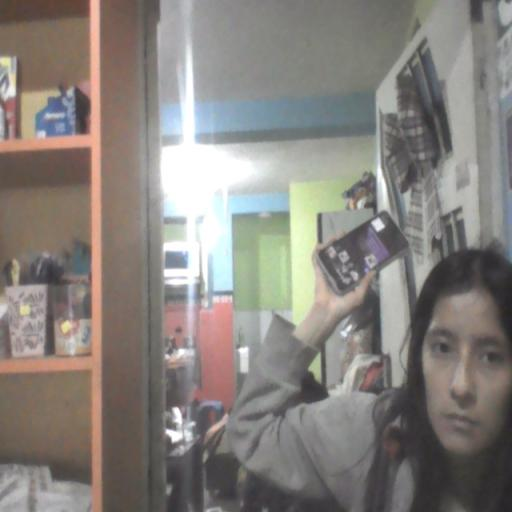phone: (314, 204, 412, 297)
